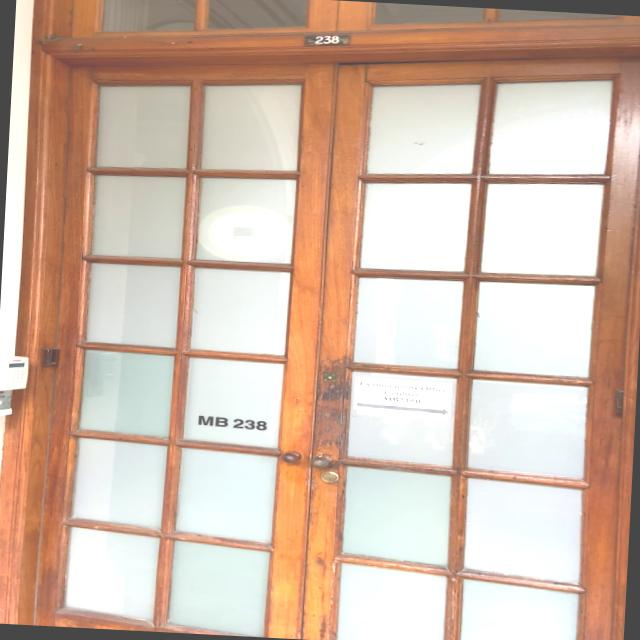room238: (304, 31, 349, 49)
